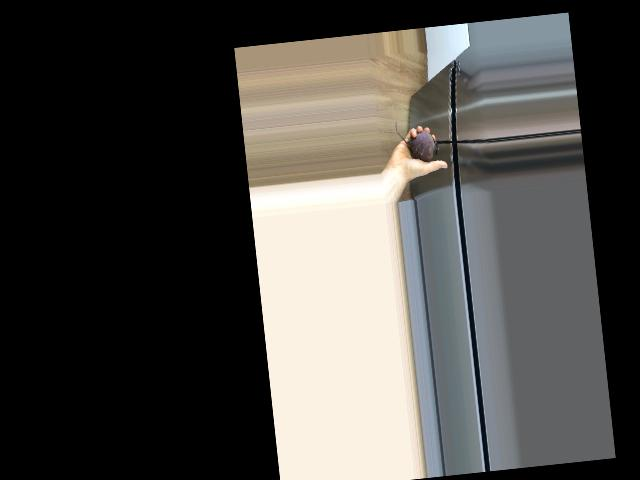beet: (395, 116, 439, 164)
